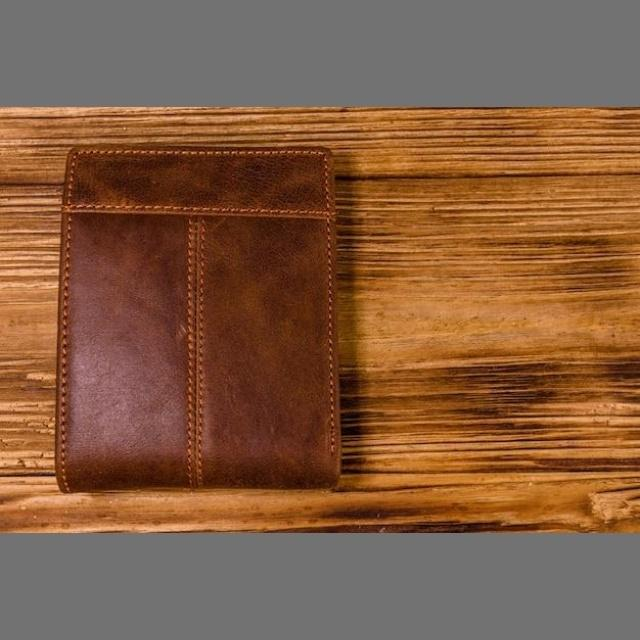Wallet: (26, 122, 410, 516)
